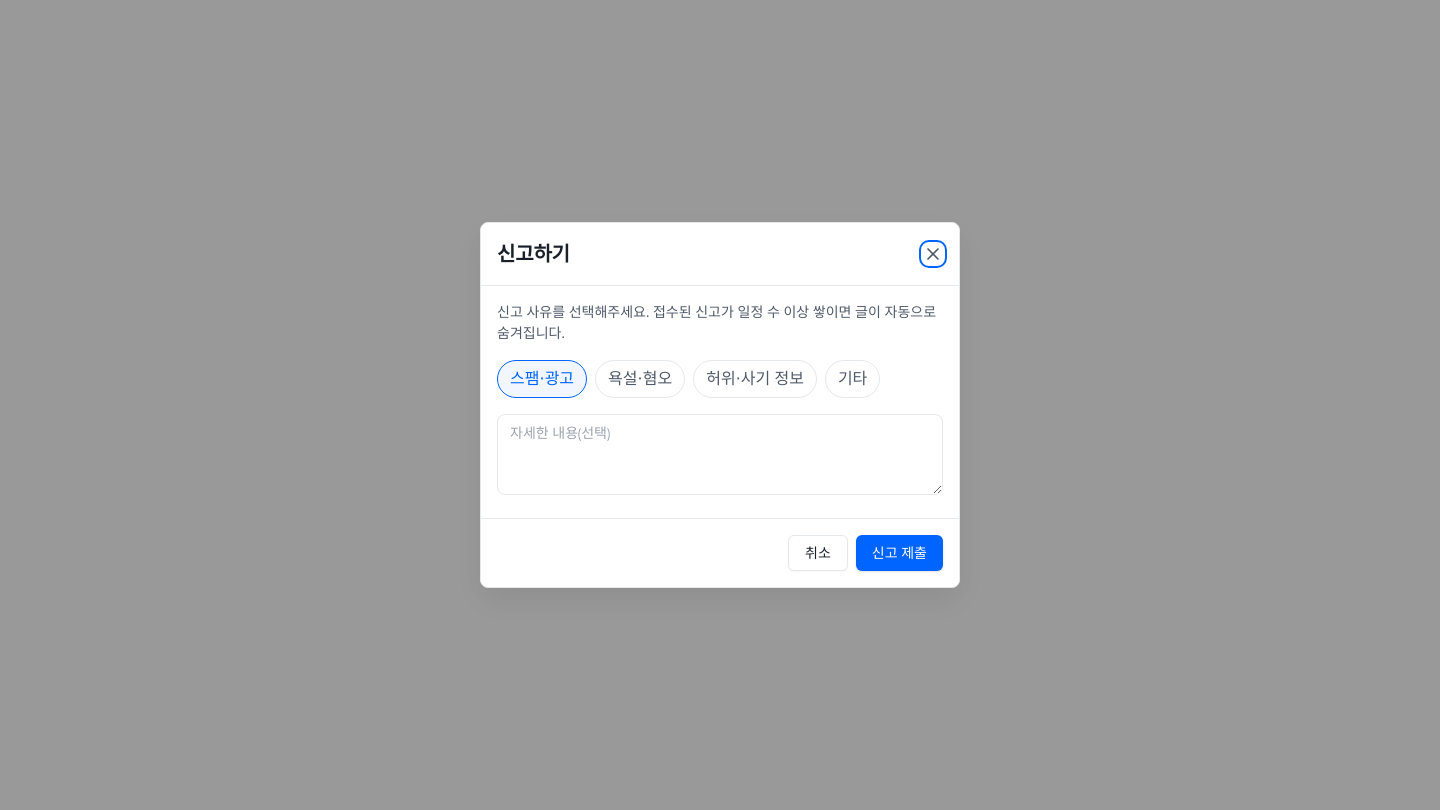
ReportDialog › shows the already-reported message
What coordinates should you click on to do the following:
click the button "신고 제출"
I would click on:
 (899, 553)
Its box is [856, 535, 943, 571].
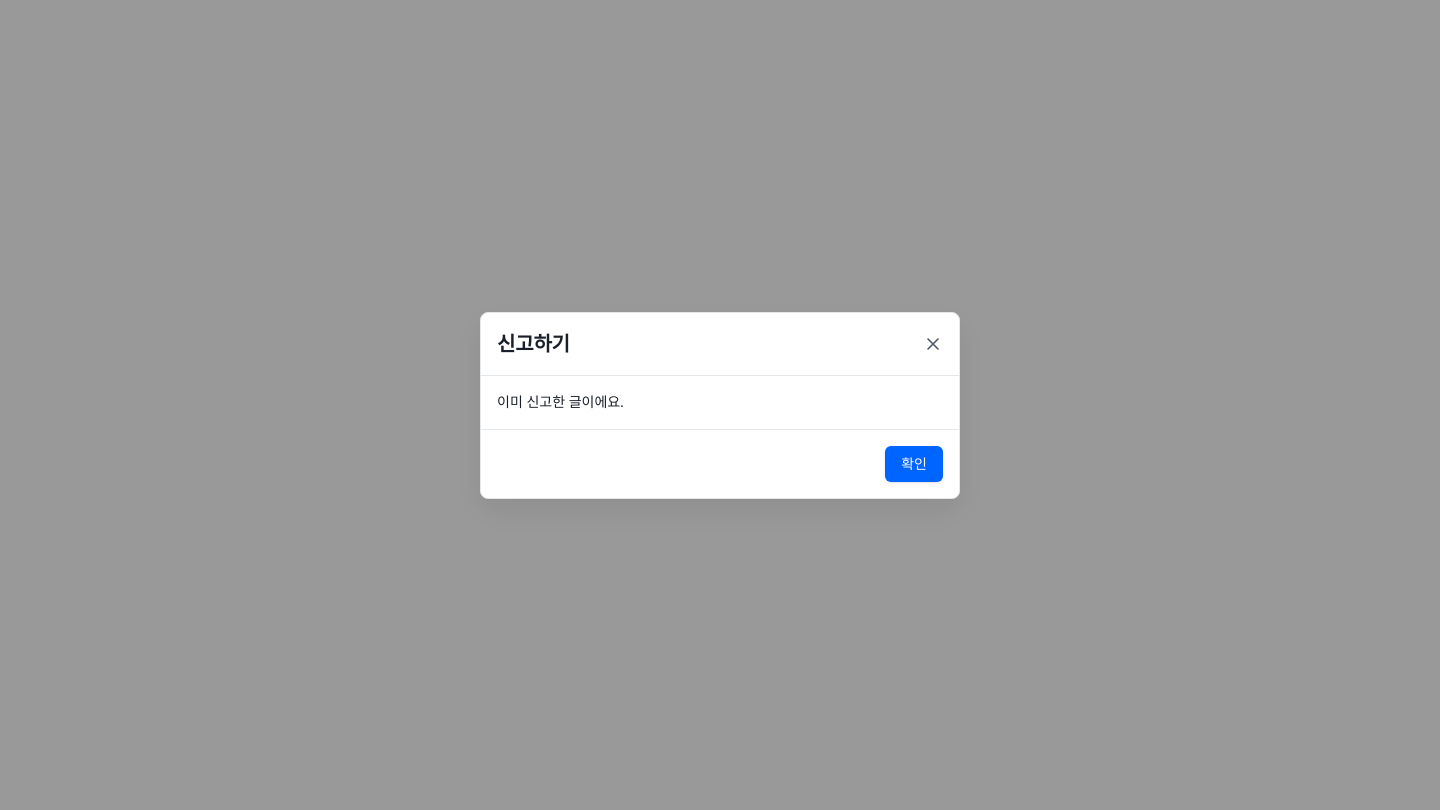
Expected: the text "이미 신고한 글이에요." is shown, [497, 392, 624, 410]
